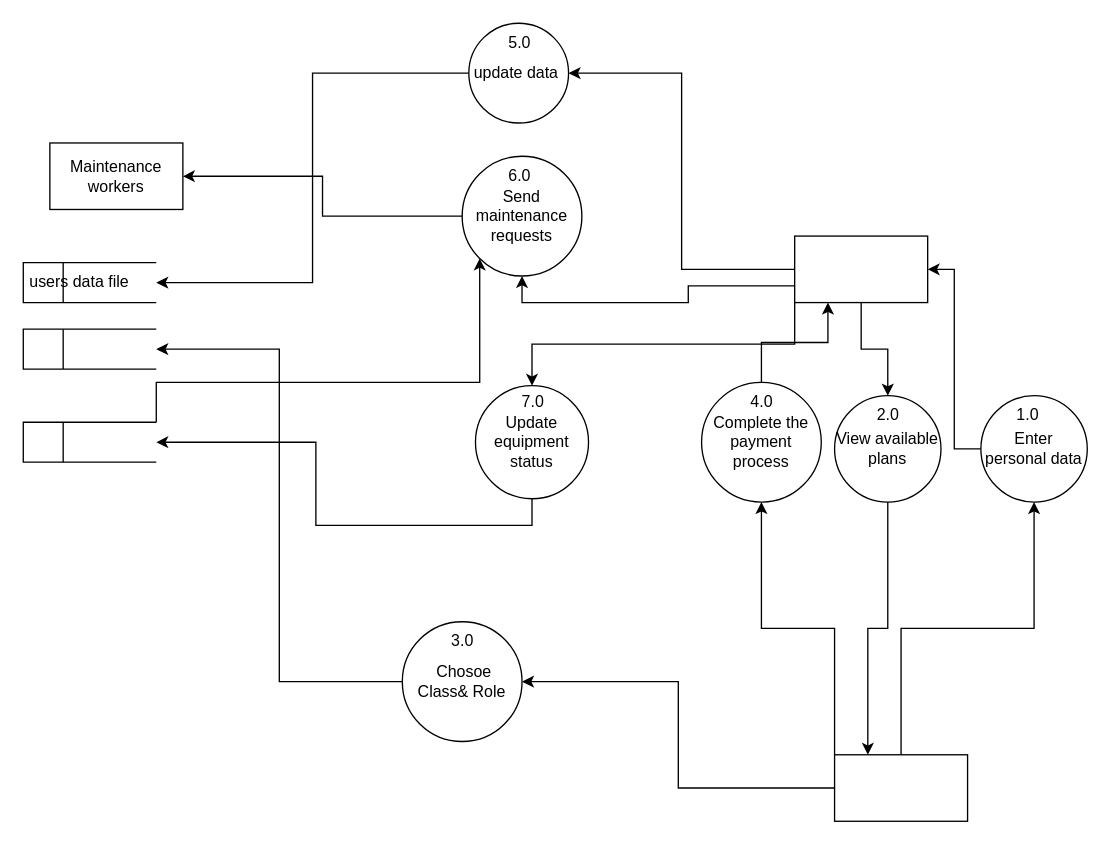
Image size: 1111x845. Some labels were removed from this diagram. Here are the shapes that lost their labels. From the top down, the centre of each, then its label:
the point at 860,269: Receptionst
the point at 89,348: Classes & Role file
the point at 89,441: Machines File
the point at 900,787: user
